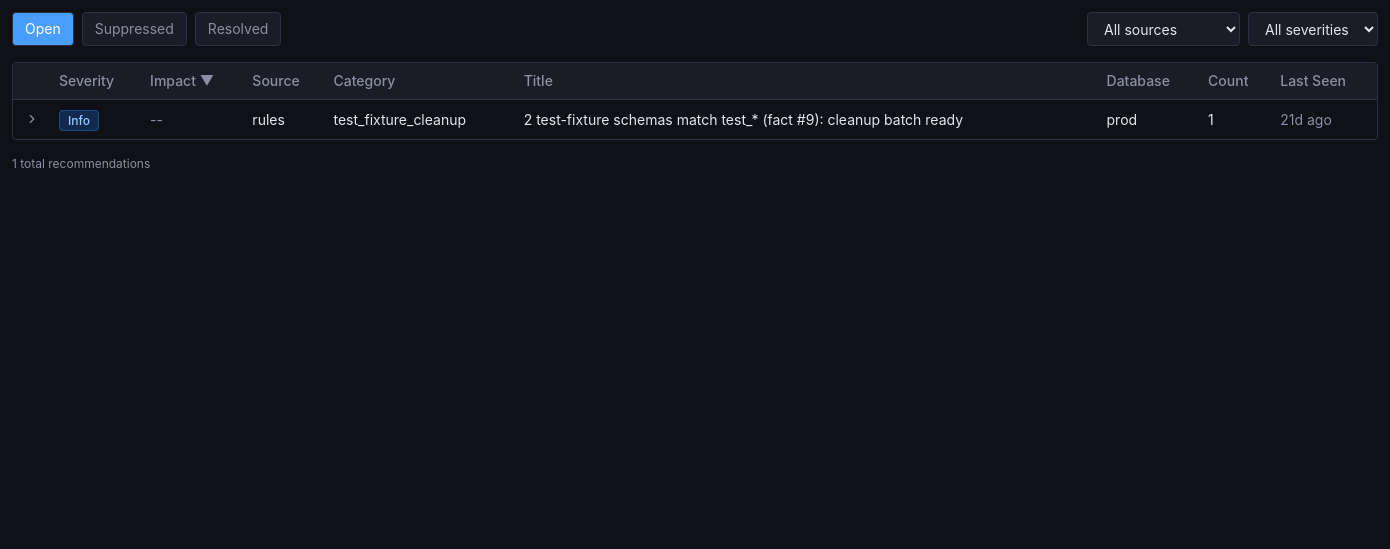
Test: Findings detail with binding facts › shows the cleanup batch on a test-fixture cleanup finding
Click the button with test id "row-expander" at coordinates (32, 119), box top-left (21, 108), bottom-right (43, 130)
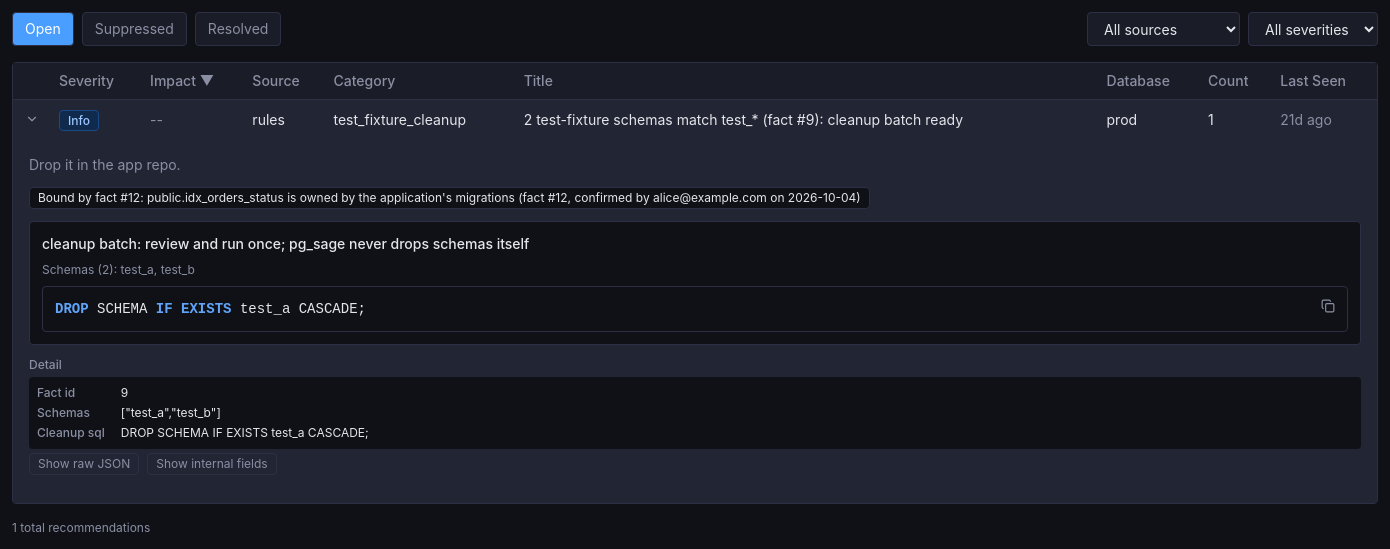
Result: the element with test id "cleanup-batch" shows "pg_sage never drops schemas itself" at top-left (42, 235), bottom-right (529, 252)
Result: the text with test id "cleanup-schemas" shows "test_b" at top-left (120, 262), bottom-right (195, 277)
